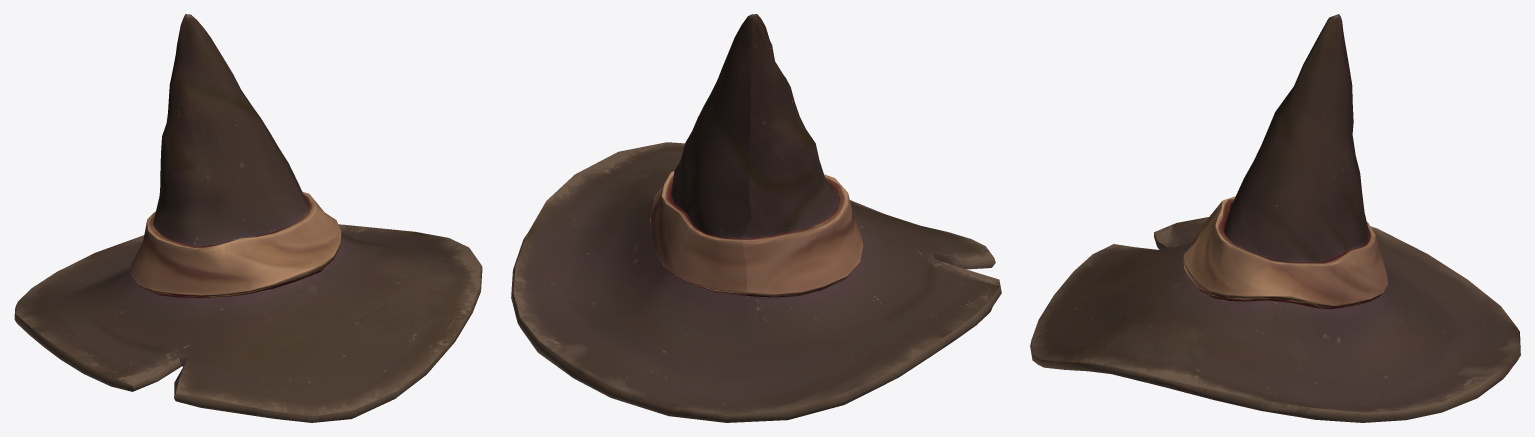
The model's file is WitchHat_Brown.fbx.
The picture shows the model from 3 angles, left to right: view 1: azimuth 30°, elevation 25°; view 2: azimuth 150°, elevation 25°; view 3: azimuth 270°, elevation 25°; orthographic projection. The views are drawn at different scales.
Visible parts, largest first — view 1: WitchHat_Brown; view 2: WitchHat_Brown; view 3: WitchHat_Brown.
Boxes of the visible parts, x1=… form: WitchHat_Brown: x1=14, y1=14, x2=482, y2=422; WitchHat_Brown: x1=511, y1=14, x2=1001, y2=422; WitchHat_Brown: x1=1030, y1=14, x2=1520, y2=422.
Size of the model in its own units: 175 by 130 by 176.
